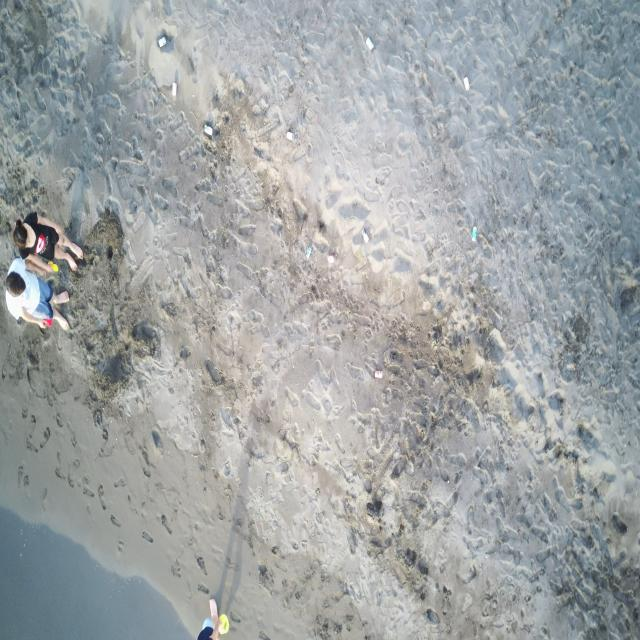tin-and-aluminum-cans: (361, 228, 369, 244), (365, 37, 374, 51), (158, 36, 167, 48), (472, 226, 478, 243), (204, 124, 213, 135), (286, 131, 295, 142), (464, 76, 469, 92), (306, 246, 312, 259), (327, 254, 335, 263), (172, 83, 177, 96), (374, 370, 382, 378)
